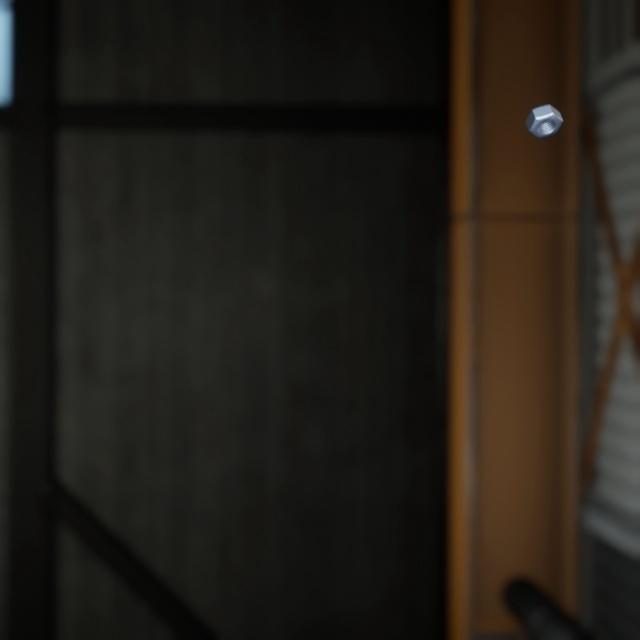nut: (521, 87, 567, 131)
